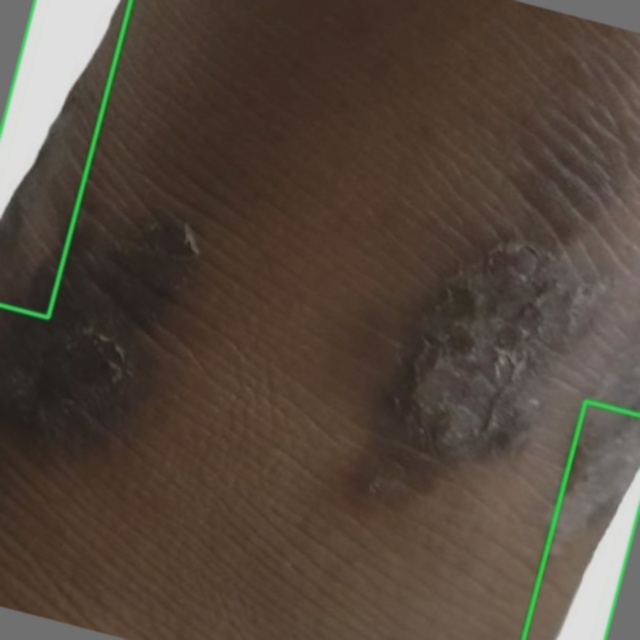Contact Dermatitis: (0, 0, 130, 317), (523, 402, 639, 639)
